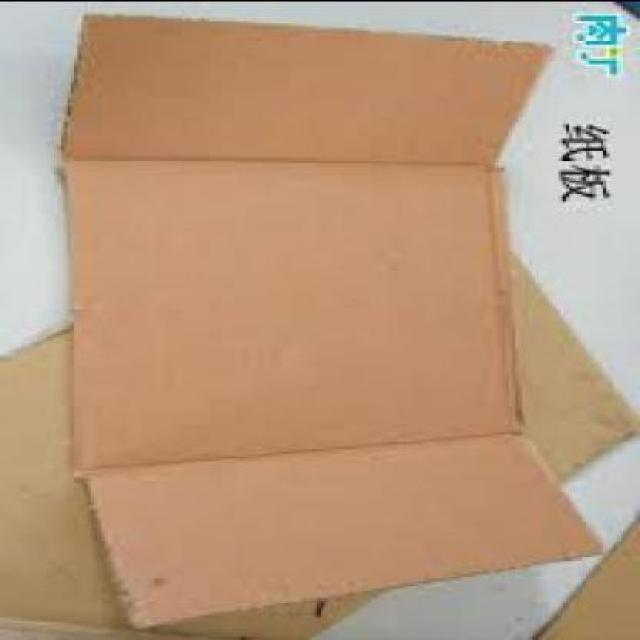CARDBOARD: (71, 9, 606, 623), (3, 237, 639, 638), (77, 154, 529, 469), (88, 433, 606, 624), (74, 9, 563, 154), (536, 517, 638, 638)
